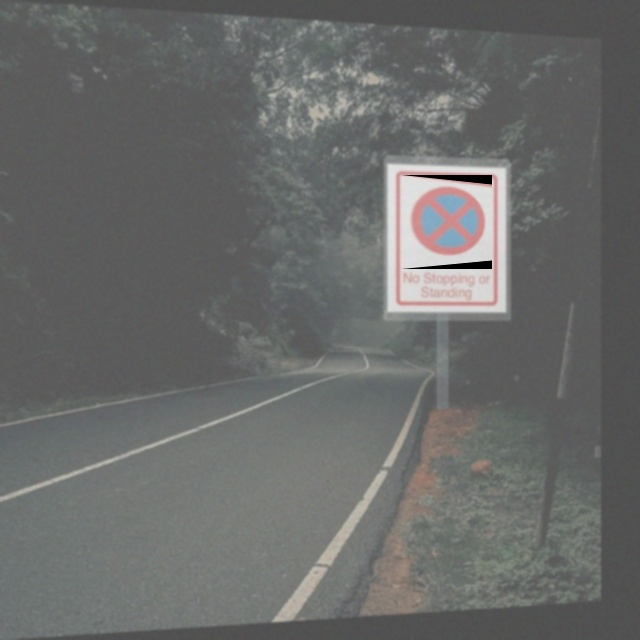No_Stopping_or_Standing: (401, 175, 492, 269)
